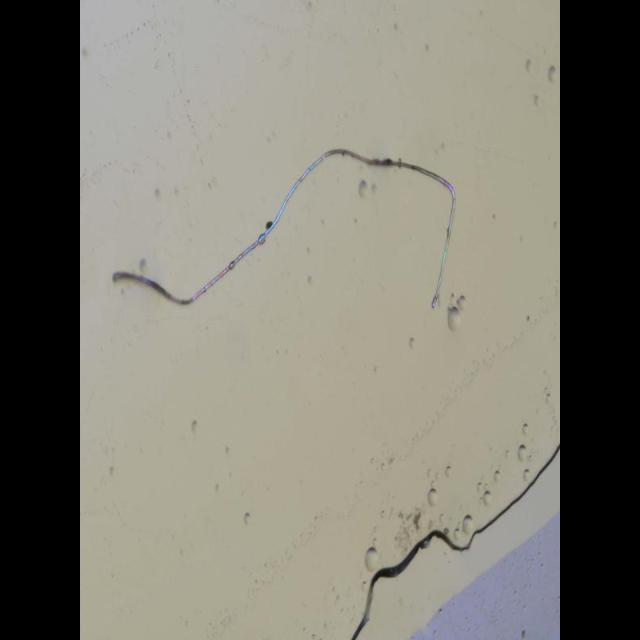Fibre: (111, 146, 457, 312)
